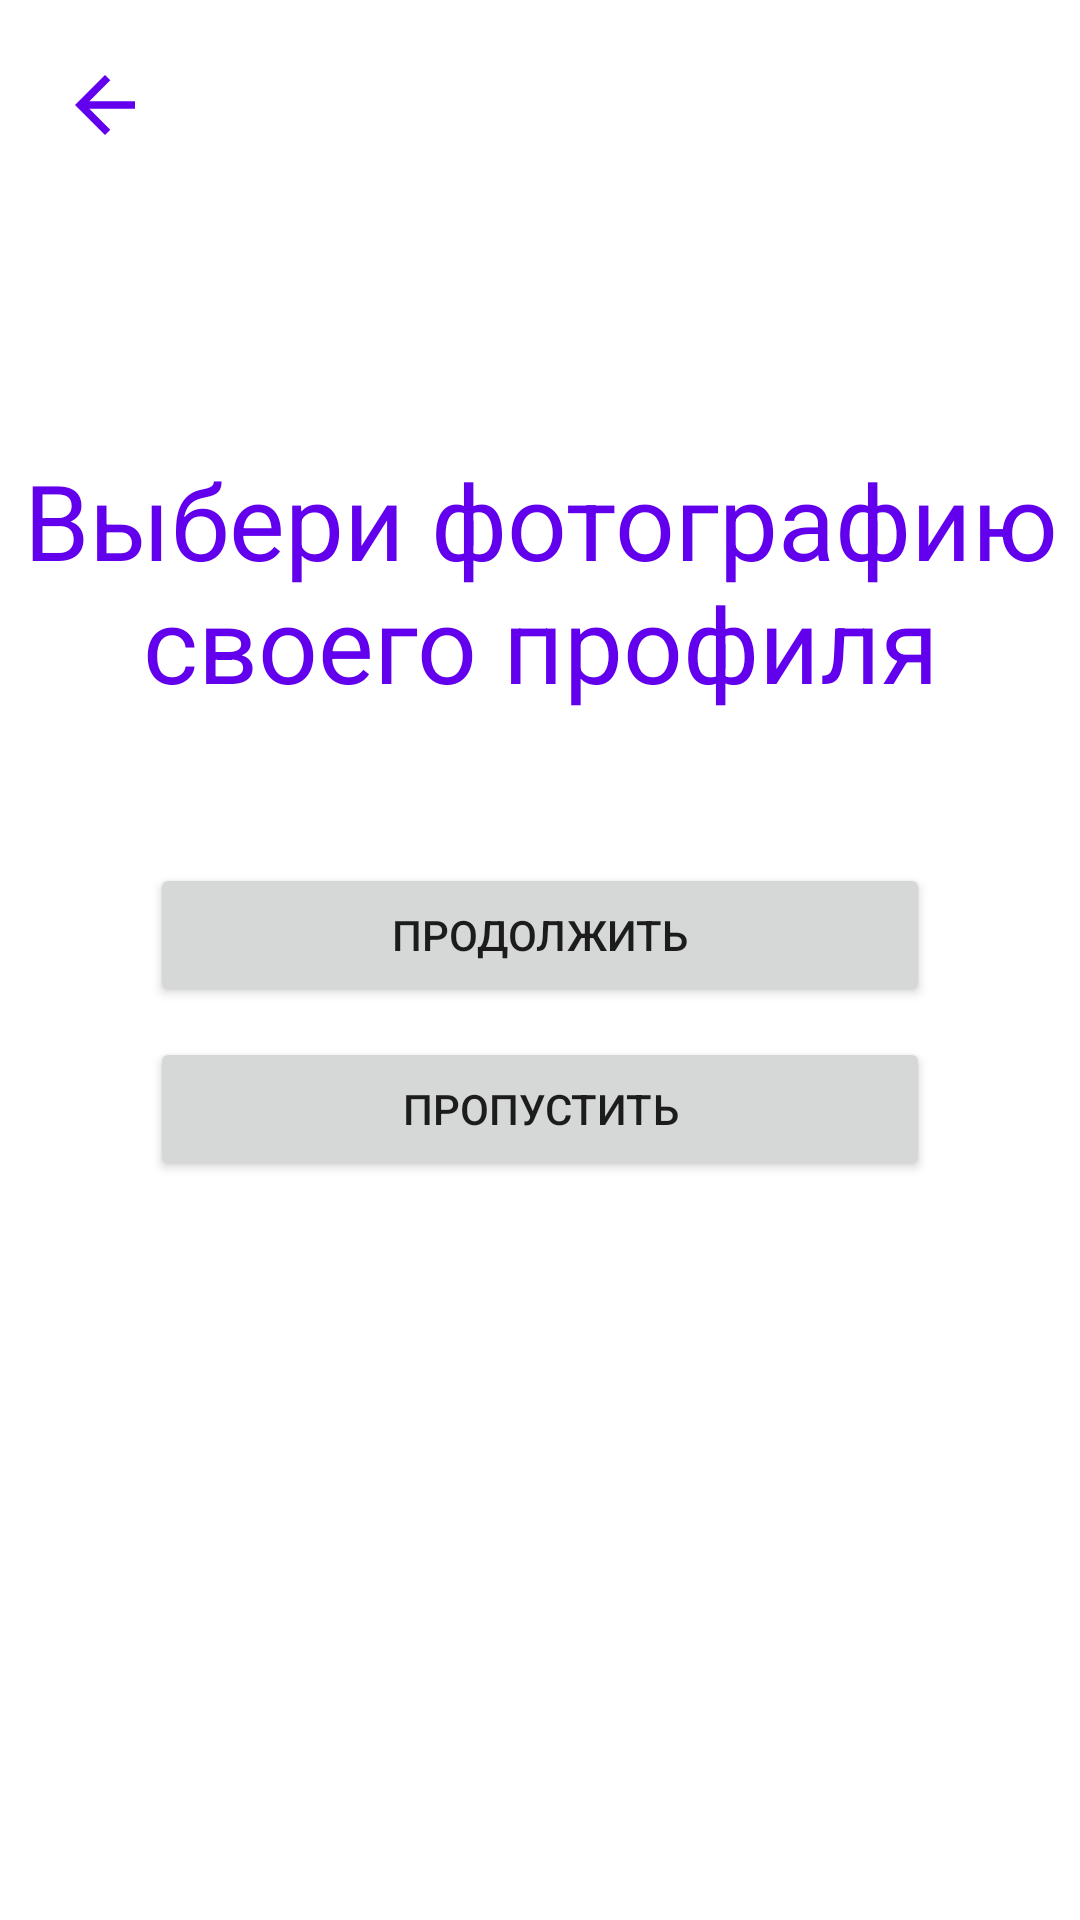

Icons on this 1080×1920 Android screen, each with its box as (x1, y1, x2, y2):
back: (75, 75, 135, 135)
